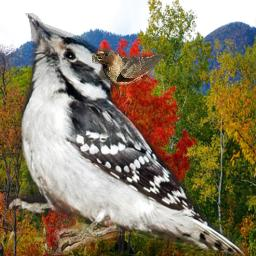Swallow: (92, 48, 165, 88)
Woodpecker: (1, 13, 244, 255)
